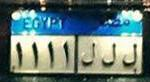1: (30, 41, 41, 69), (15, 39, 25, 67), (47, 39, 56, 68), (63, 38, 70, 68)
laam: (101, 42, 118, 70), (122, 43, 139, 70), (80, 41, 97, 67)
